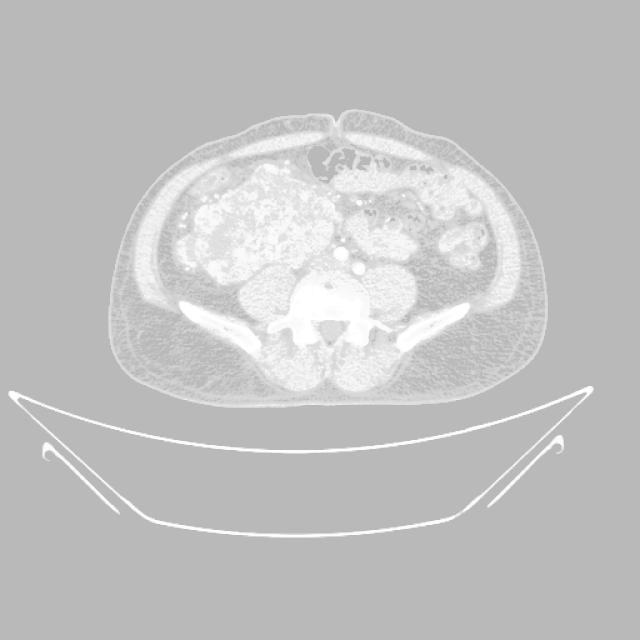TUMOR: (148, 143, 493, 397)
